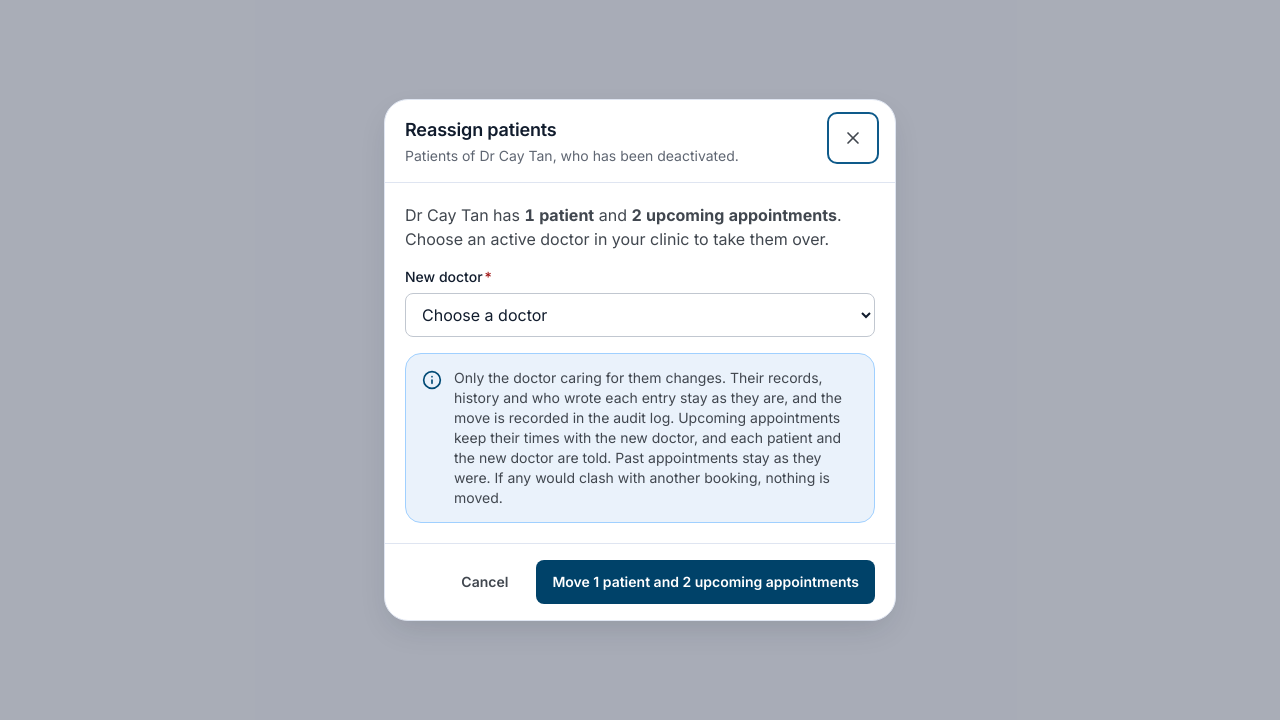
Test: reassigning a deactivated doctor’s patients › with upcoming appointments (migration 31) › reports a clash, moves nothing, and keeps the choice so another doctor can be tried
Expected: the button "Move 1 patient and 2 upcoming appointments" is shown, top-left (536, 560), bottom-right (875, 604)
Select "Dr Bea Lim" in the dropdown labelled "New doctor*" at x=640, y=315, box top-left (405, 293), bottom-right (875, 337)
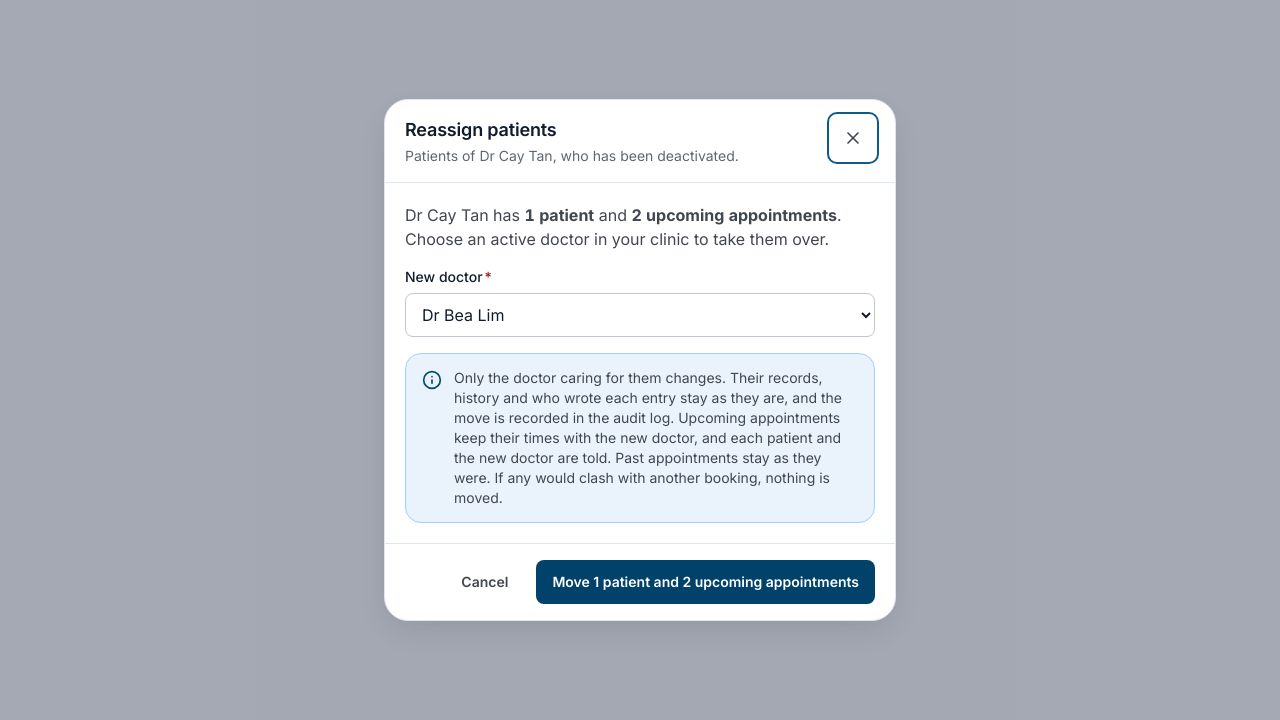
Click the button "Move 1 patient and 2 upcoming appointments" at x=706, y=582, box top-left (536, 560), bottom-right (875, 604)
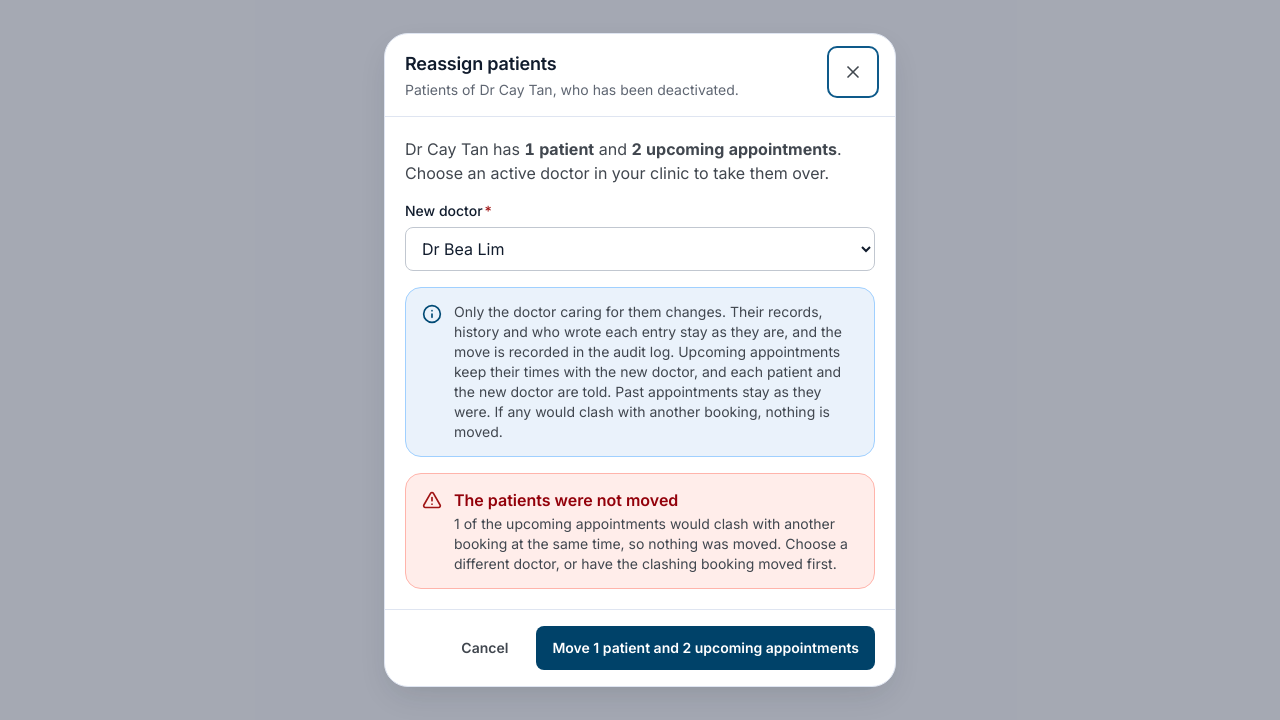
Expected: the button "Move 1 patient and 2 upcoming appointments" is shown, top-left (536, 626), bottom-right (875, 670)
Expected: the text "The patients were not moved" is shown, top-left (454, 490), bottom-right (678, 510)
Expected: the text "1 of the upcoming appointments would clash" is shown, top-left (454, 515), bottom-right (848, 572)
